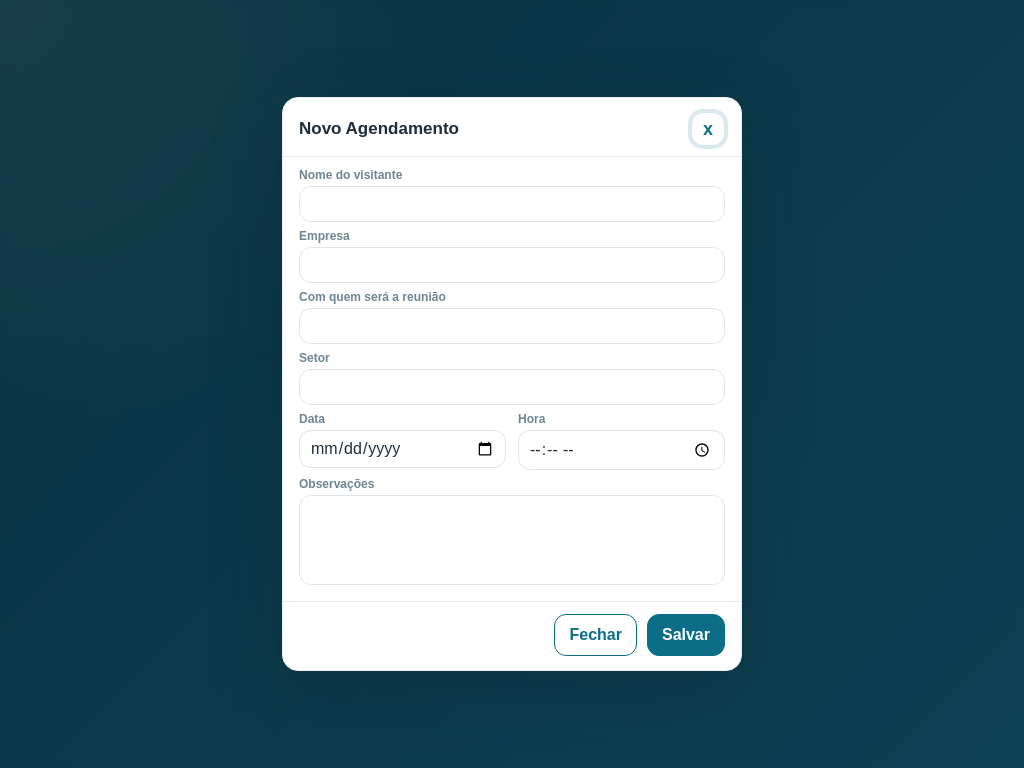
Test: AgendaModal mensagens e validações › mostra loading específico ao criar e ao editar
In the field labelled "Nome do visitante": (512, 204) x1=299 y1=186 x2=725 y2=222, type "Maria Silva"
In the field labelled "Empresa": (512, 265) x1=299 y1=247 x2=725 y2=283, type "Dimebras"
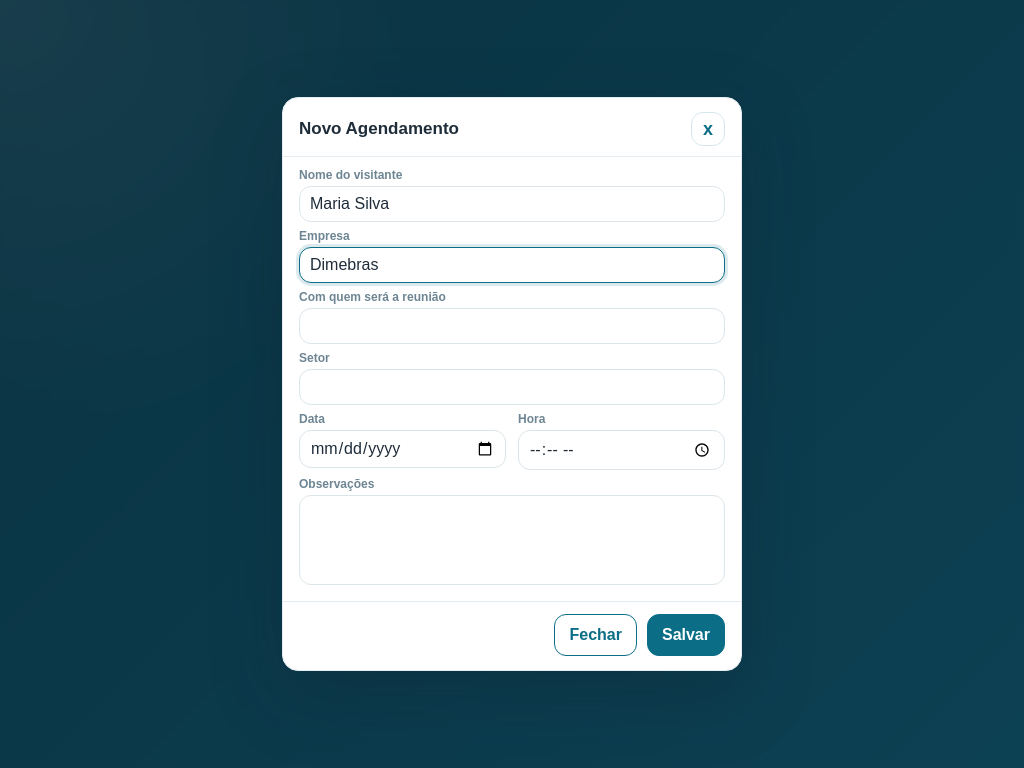
In the field labelled "Com quem será a reunião": (512, 326) x1=299 y1=308 x2=725 y2=344, type "Joao Souza"
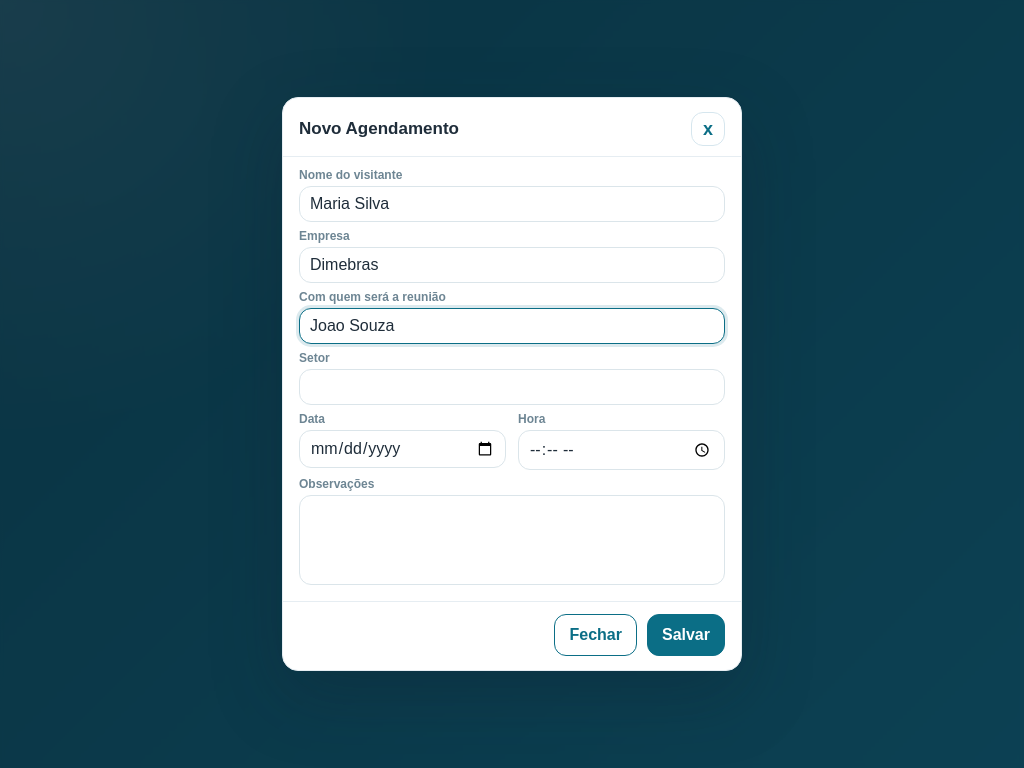
In the field labelled "Setor": (512, 387) x1=299 y1=369 x2=725 y2=405, type "Comercial"
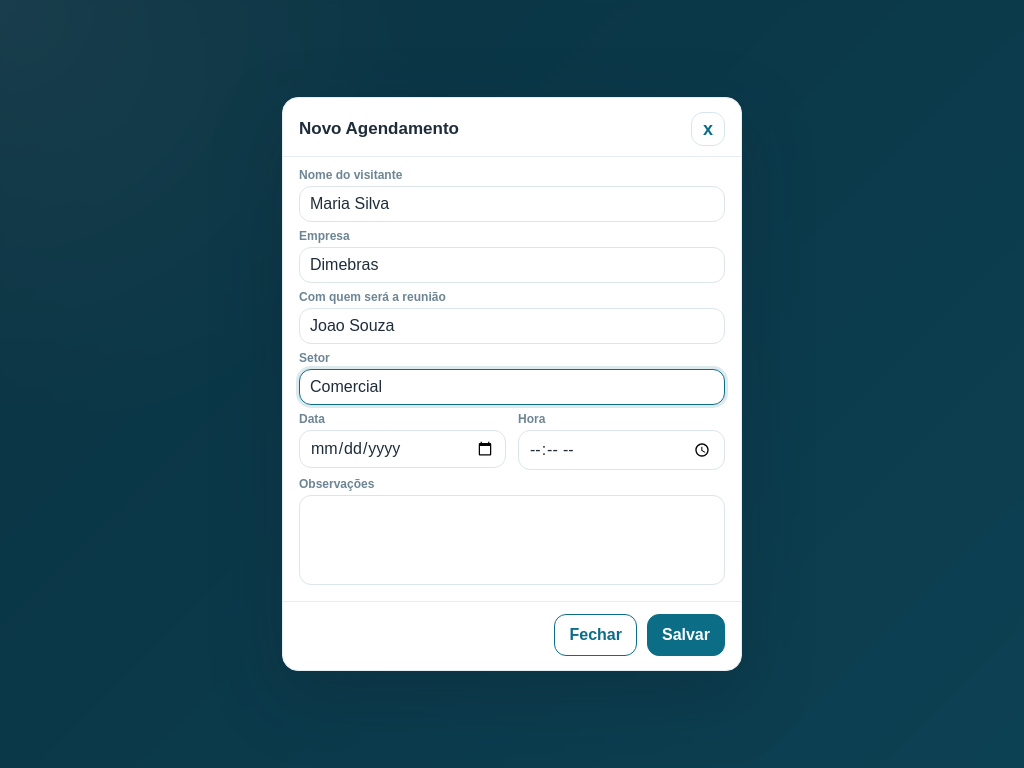
In the date field labelled "Data": (402, 449) x1=299 y1=430 x2=506 y2=468, type "2026-08-06"
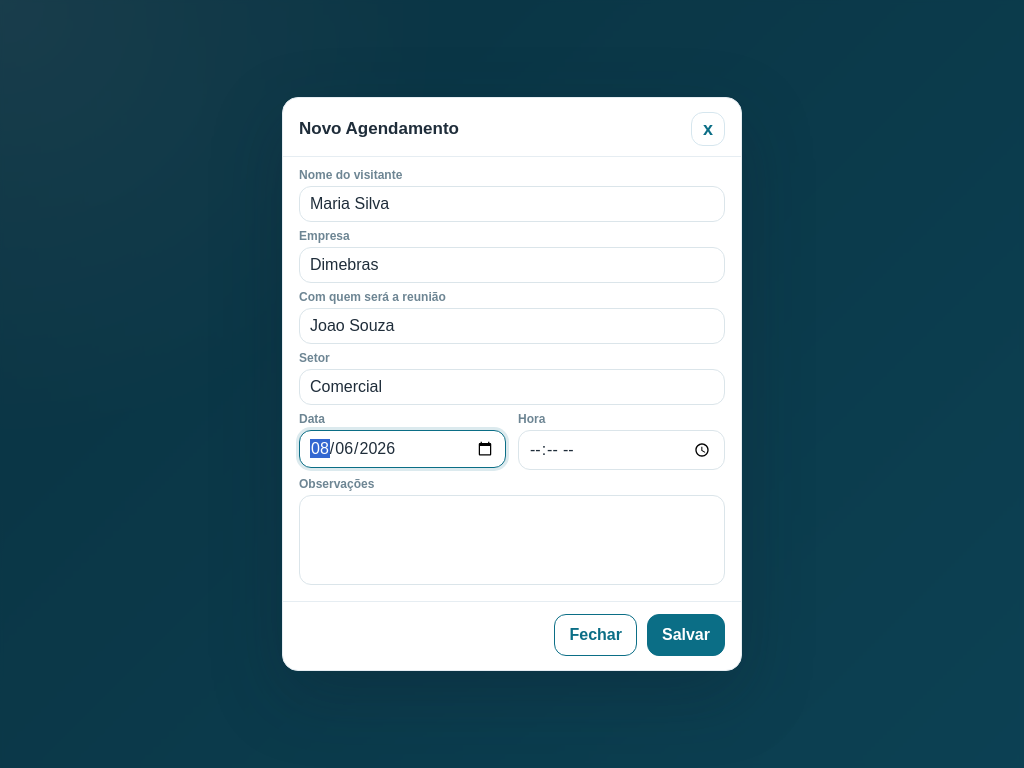
In the time field labelled "Hora": (622, 450) x1=518 y1=430 x2=725 y2=470, type "11:30"
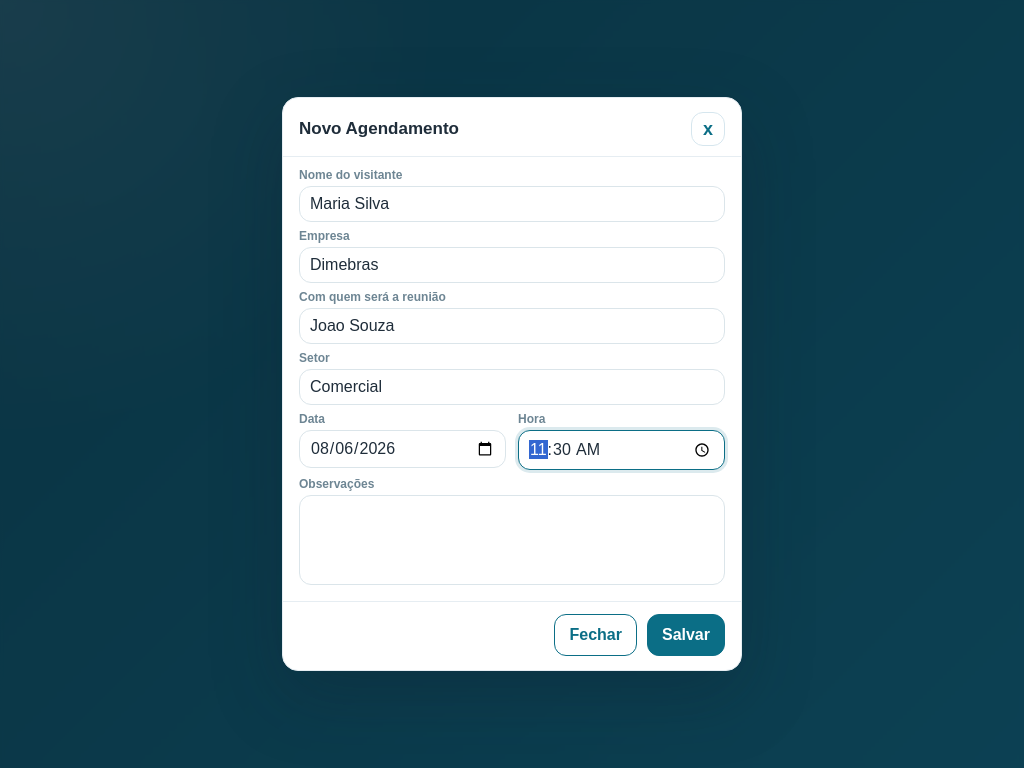
Click the button "Salvar": (686, 635) x1=647 y1=614 x2=725 y2=656
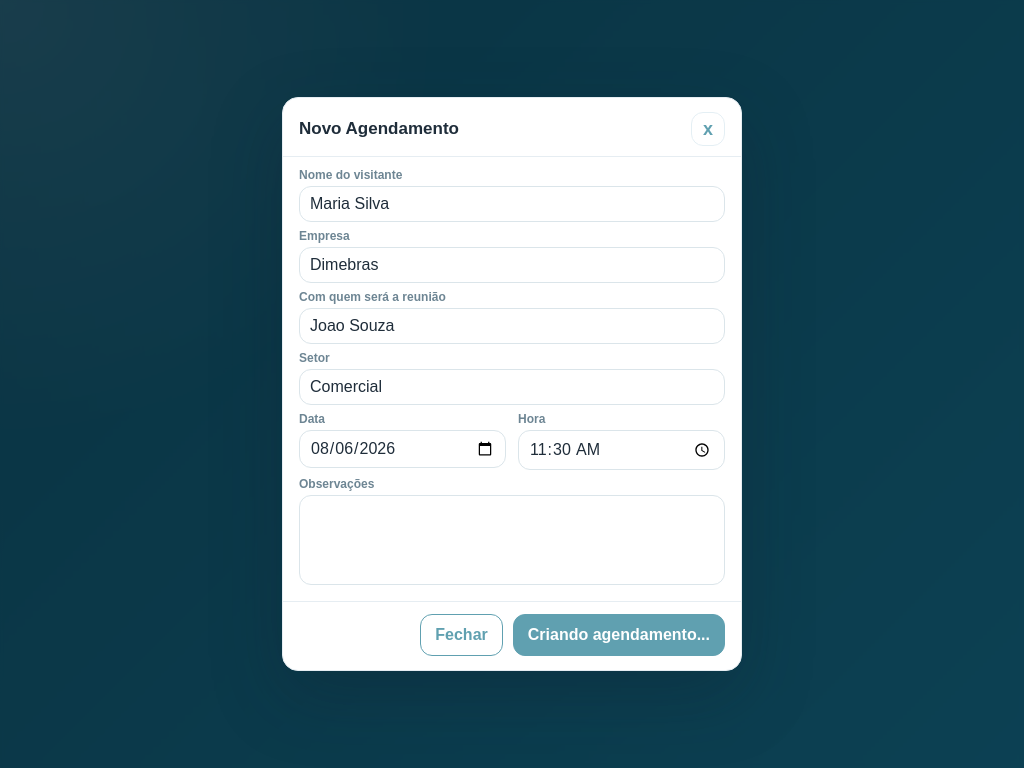
Expected: the button "Criando agendamento..." is disabled, x1=513 y1=614 x2=725 y2=656
